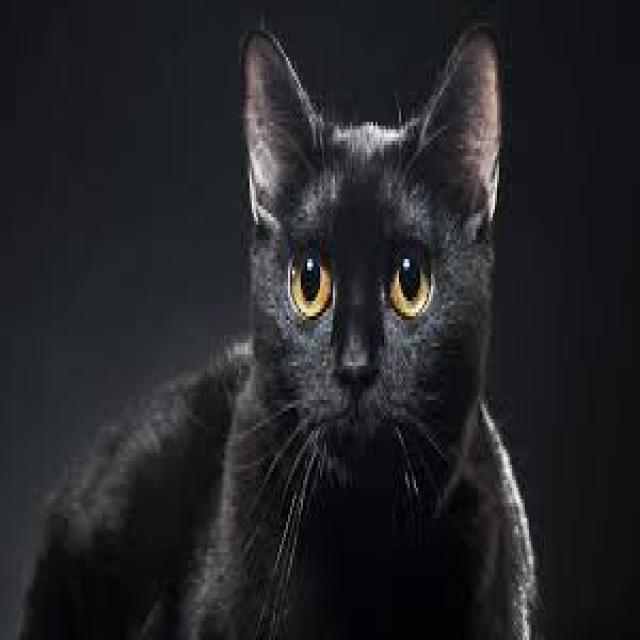cat: (11, 19, 578, 640)
